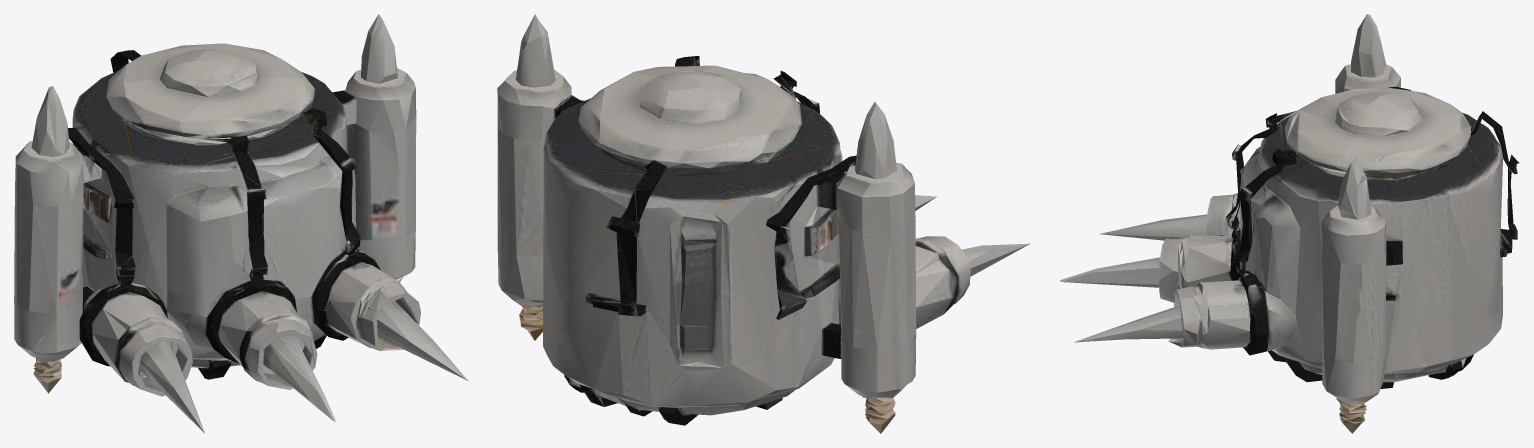
Rendered from jetpack.glb.
3 renders of one model, left to right at view 1: azimuth 30°, elevation 25°; view 2: azimuth 150°, elevation 25°; view 3: azimuth 270°, elevation 25°, orthographic. The views are drawn at different scales.
Size of the model in its own units: 1.66 by 1.26 by 1.9.
1 material, 1 textured.
